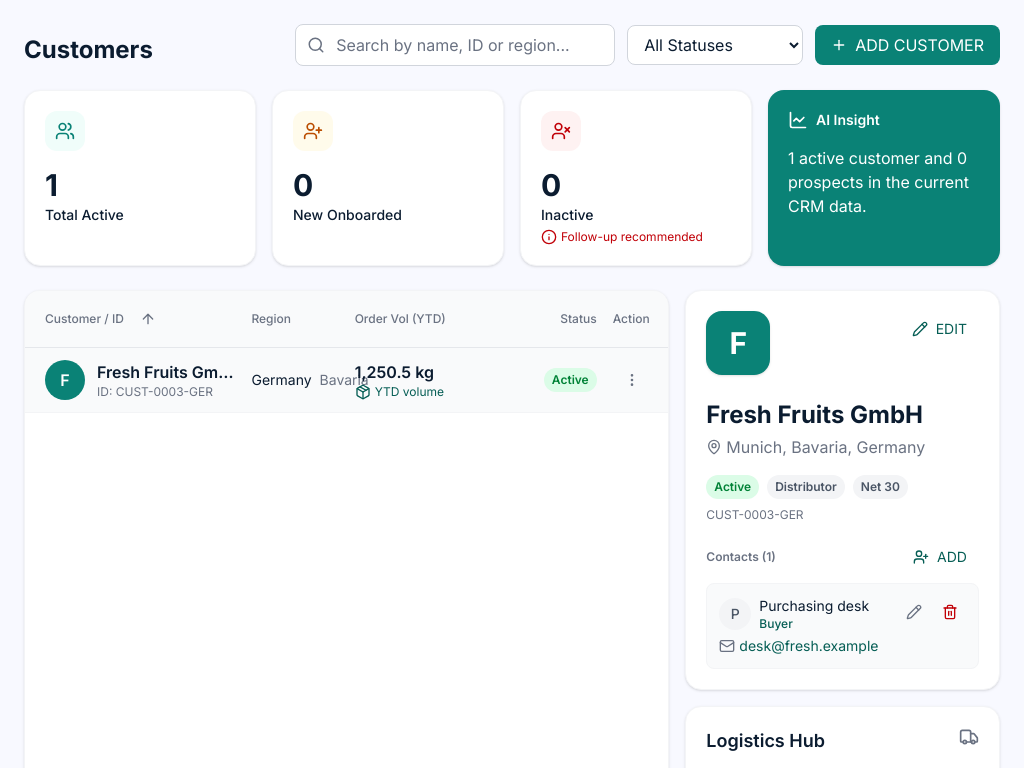
Test case: CustomersPage › selects the customer it has just created
Expected: the button "Fresh Fruits GmbH" is shown, top-left (97, 360), bottom-right (235, 384)
Step 1. Click the button "ADD CUSTOMER" → (908, 45), box top-left (815, 25), bottom-right (1000, 65)
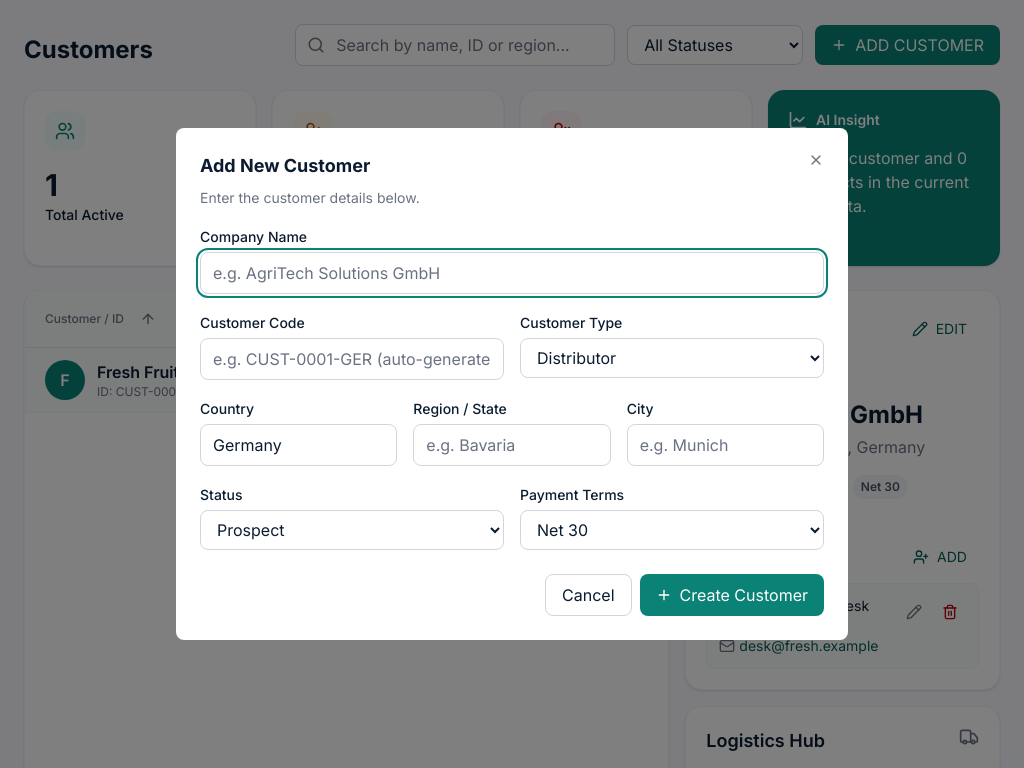
Step 2. Type "Mango Export SARL" into the field labelled "Company Name" → (512, 273), box top-left (200, 252), bottom-right (824, 294)
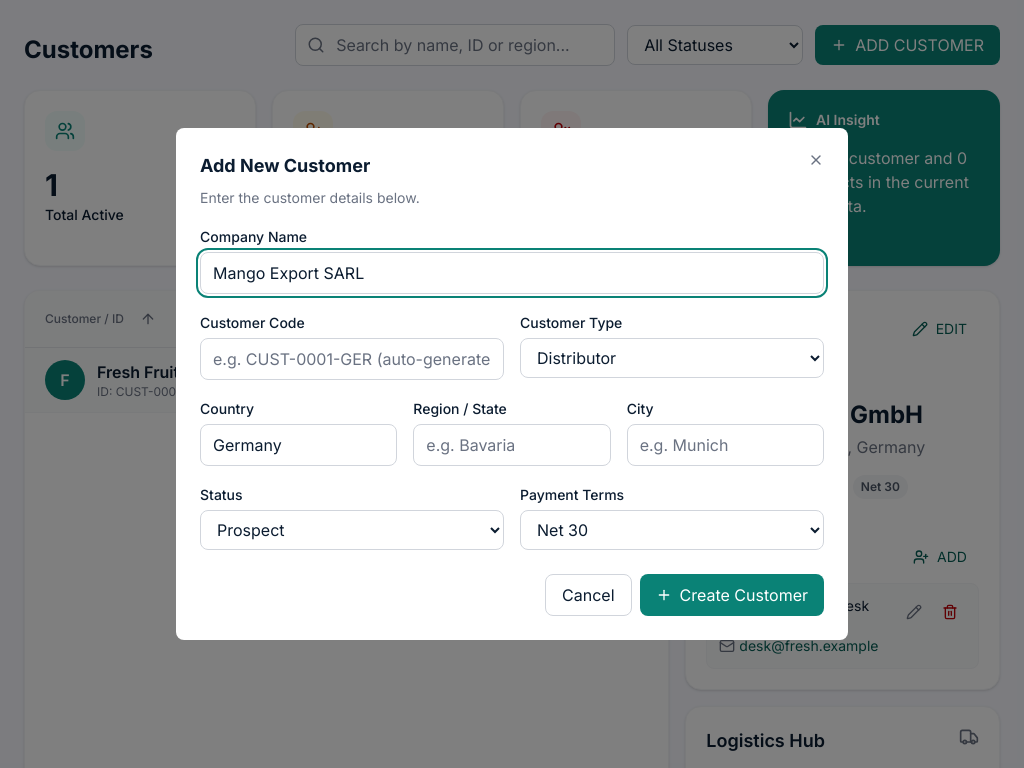
Step 3. Click the button "Create Customer" → (732, 595), box top-left (640, 574), bottom-right (824, 616)
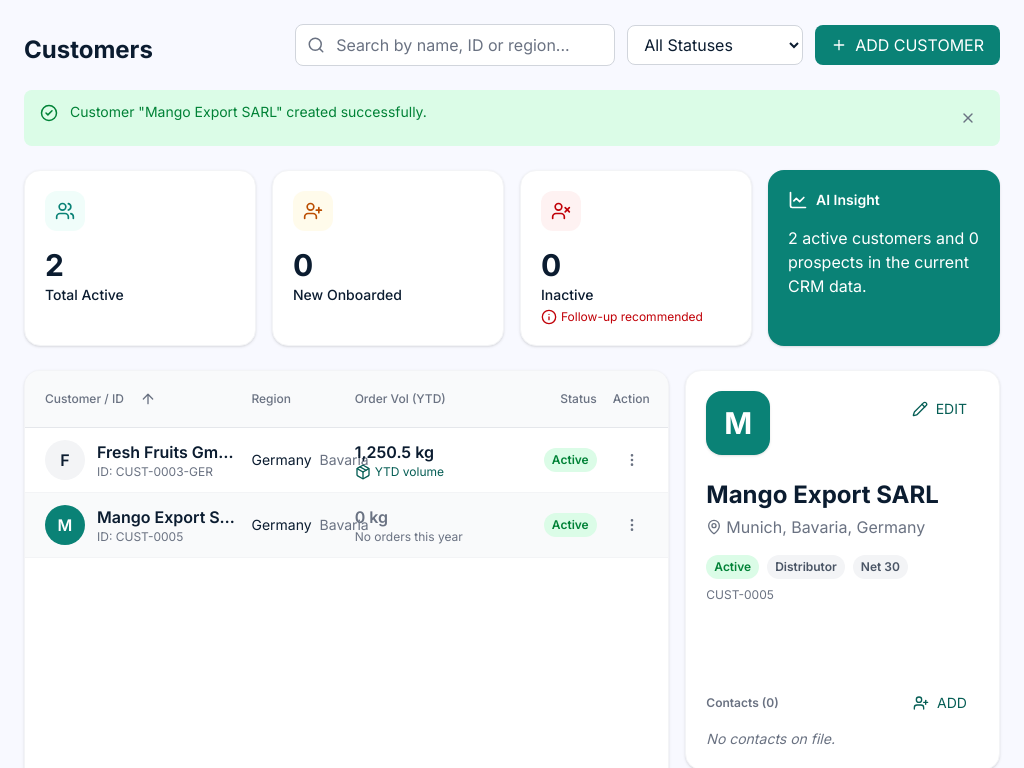
Now the heading "Mango Export SARL" is shown, box top-left (706, 479), bottom-right (979, 511)
